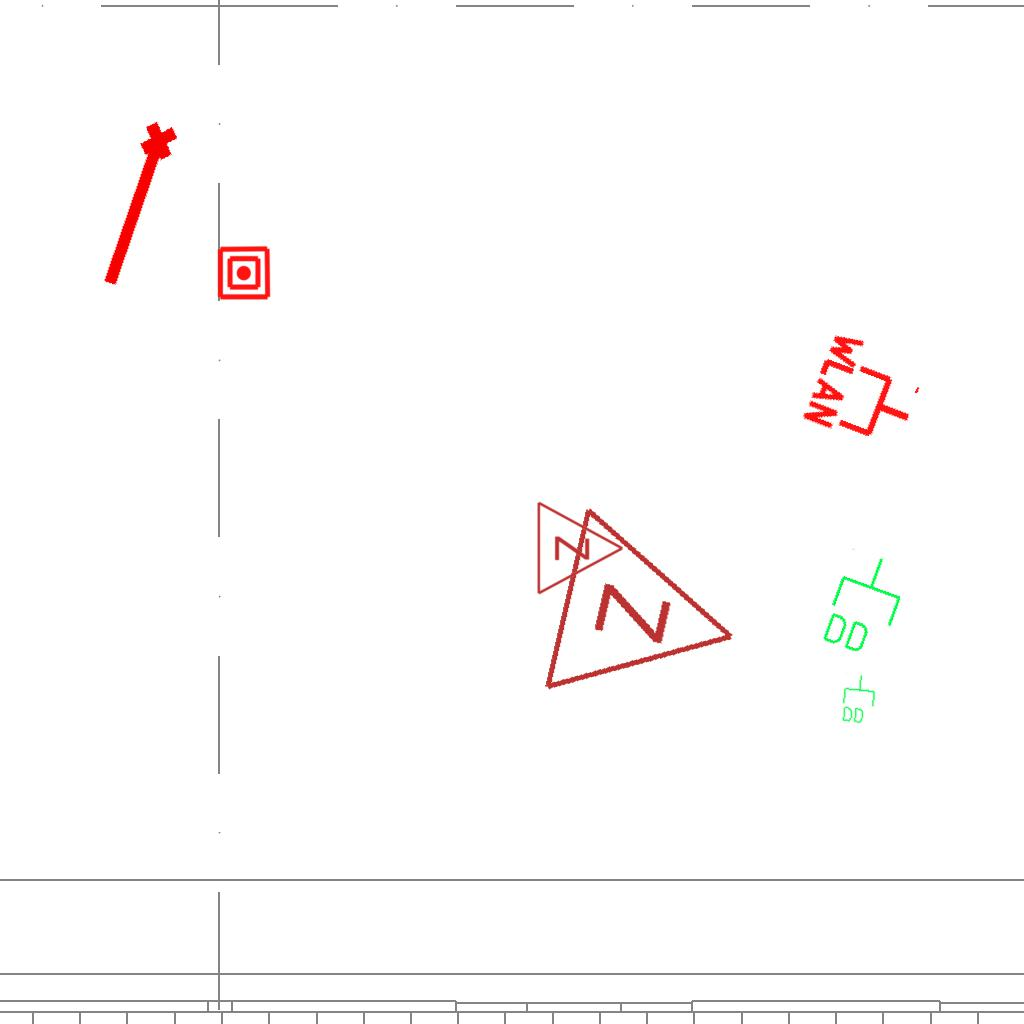ASR_Ansaugoeffnung: (88, 115, 190, 297)
Datenanschluss_zweifach: (814, 544, 915, 665), (838, 671, 879, 727)
NAM-Nichtautomatischer_Melder: (216, 245, 272, 301)
WLAN: (798, 324, 935, 460)
Zimmersignalleuchte: (529, 497, 769, 733), (530, 498, 630, 596)
